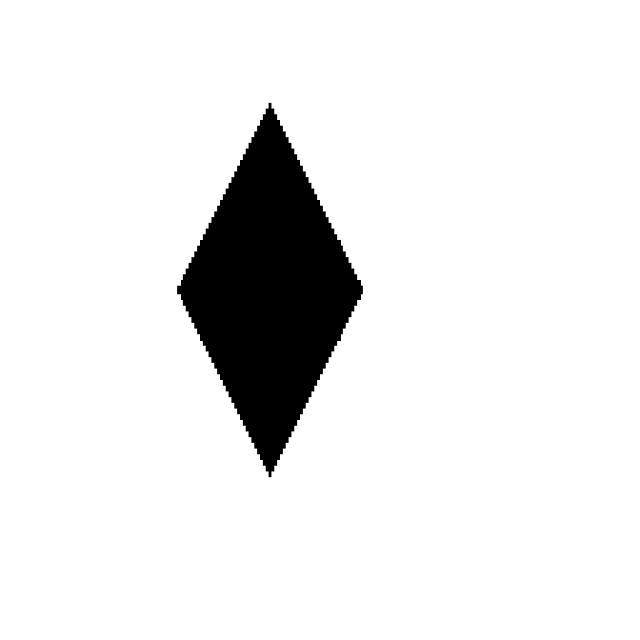Kite: (129, 46, 400, 496)
